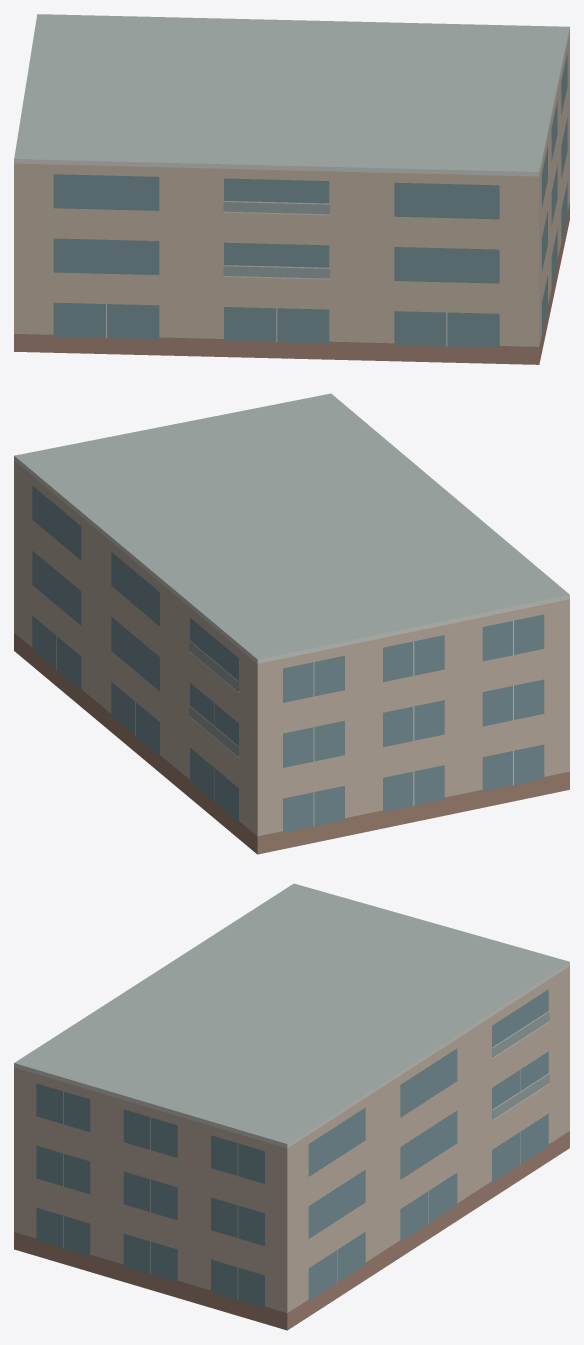
Rendered from survey-upis-32470852.glb.
The picture shows the model from 3 angles, top to bottom: view 1: azimuth 30°, elevation 25°; view 2: azimuth 150°, elevation 25°; view 3: azimuth 270°, elevation 25°; orthographic projection. The views are drawn at different scales.
Visible parts, largest first — view 1: survey-upis-32470852.tmp; view 2: survey-upis-32470852.tmp; view 3: survey-upis-32470852.tmp.
Boxes of the visible parts, x1,y1,x2,y2 form: survey-upis-32470852.tmp: [14, 14, 569, 364]; survey-upis-32470852.tmp: [14, 393, 569, 854]; survey-upis-32470852.tmp: [14, 883, 569, 1330].
Bounding box in the file's own units: 31.2 × 10.4 × 28.12.
